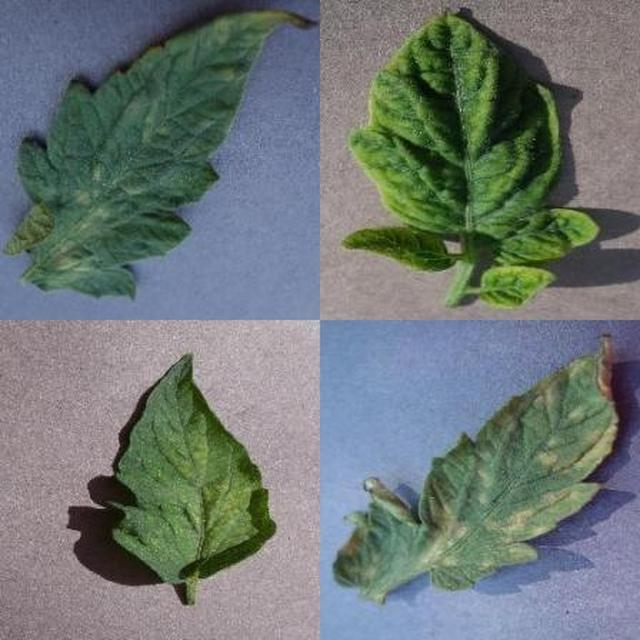Leaf Mold: (110, 61, 640, 640)
